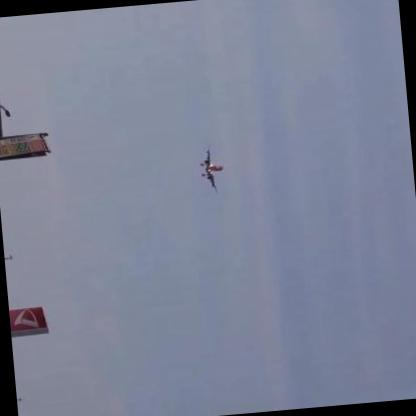plane: (196, 144, 226, 196)
